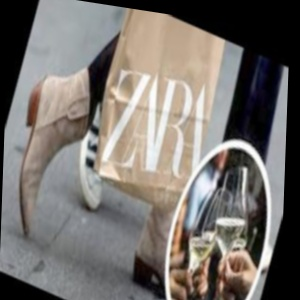zara: (157, 53, 269, 110)
